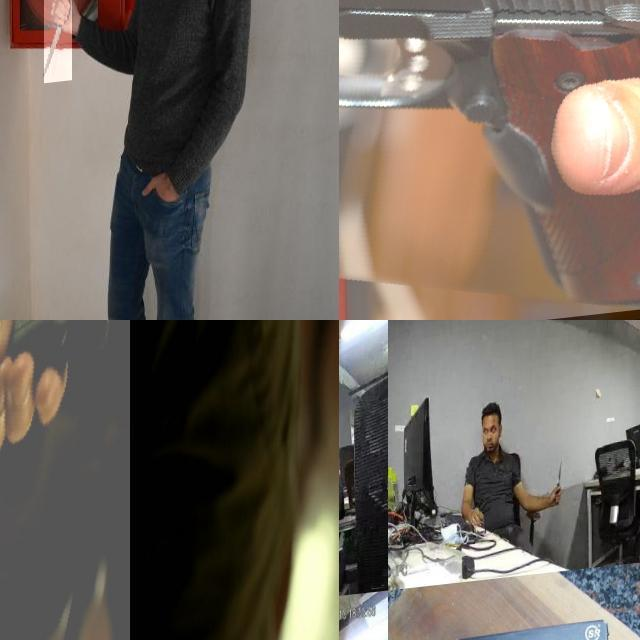-: (44, 0, 72, 90), (552, 468, 566, 502), (339, 450, 348, 484)
gun-knife-thesis - v11 Yolov5 augmented: (339, 0, 640, 320), (0, 320, 177, 640)
